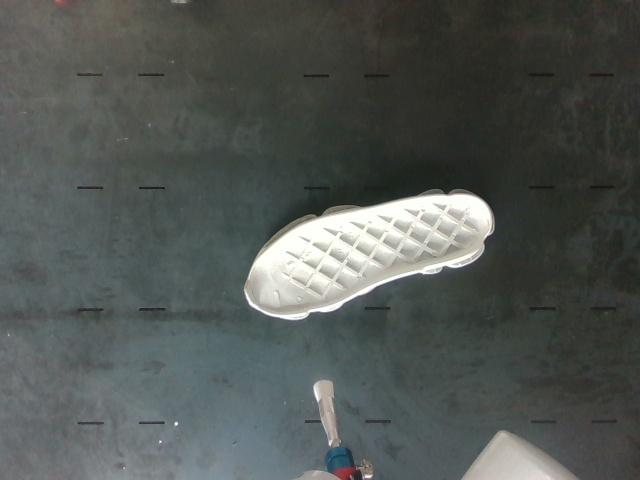shoes: (246, 195, 490, 315)
